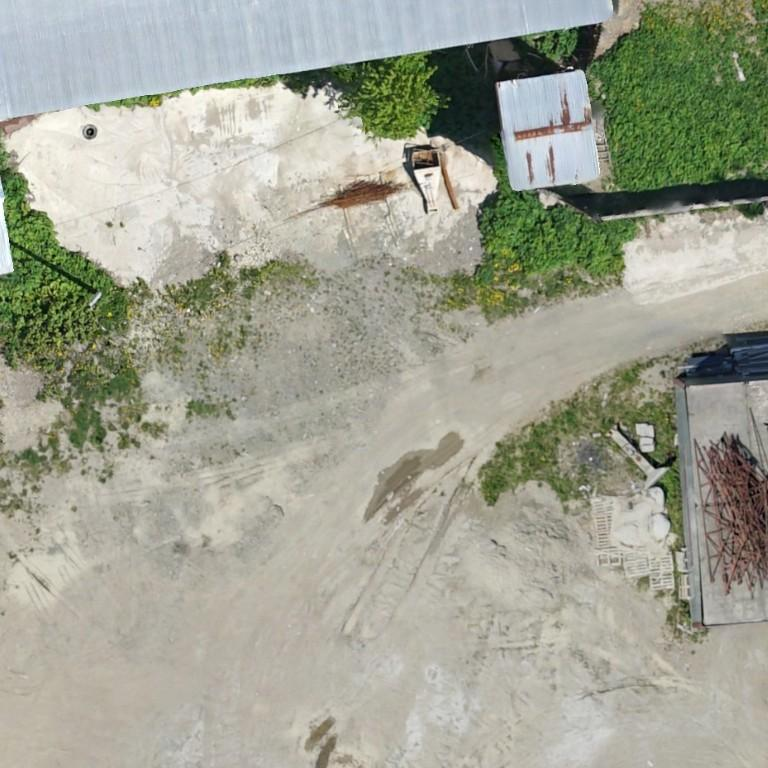hogweed: (590, 0, 767, 190), (0, 168, 125, 366), (475, 179, 636, 284)
